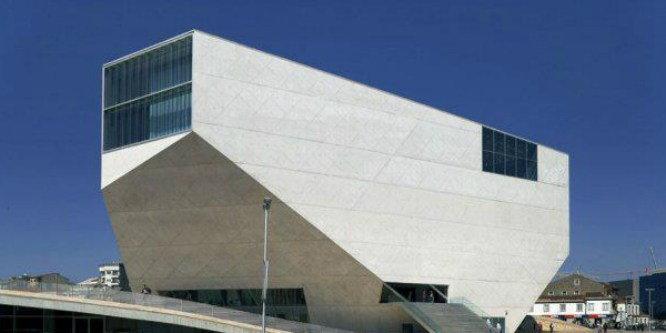musica: (100, 28, 570, 332)
